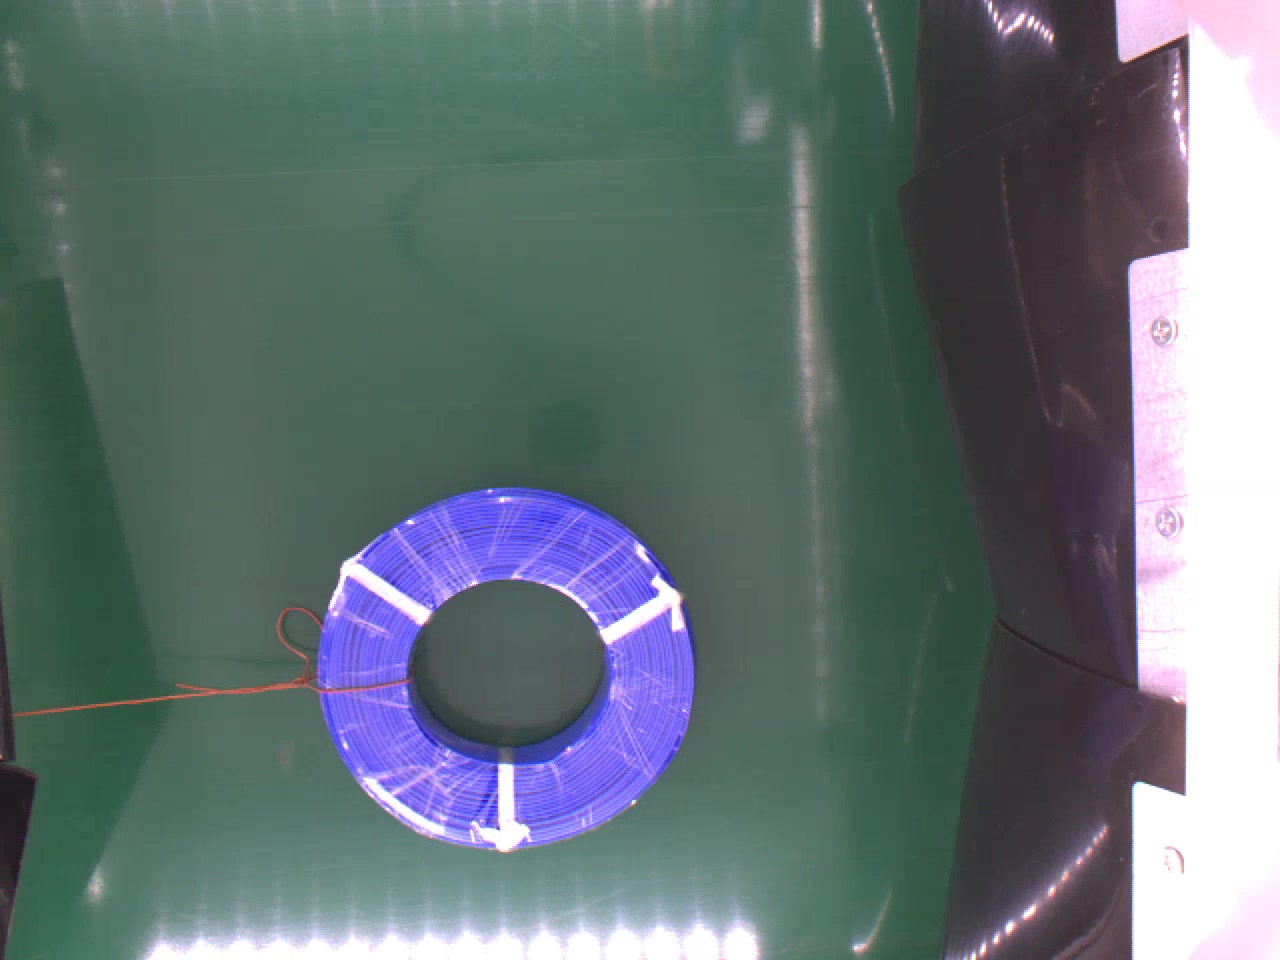blue: (318, 472, 697, 846)
